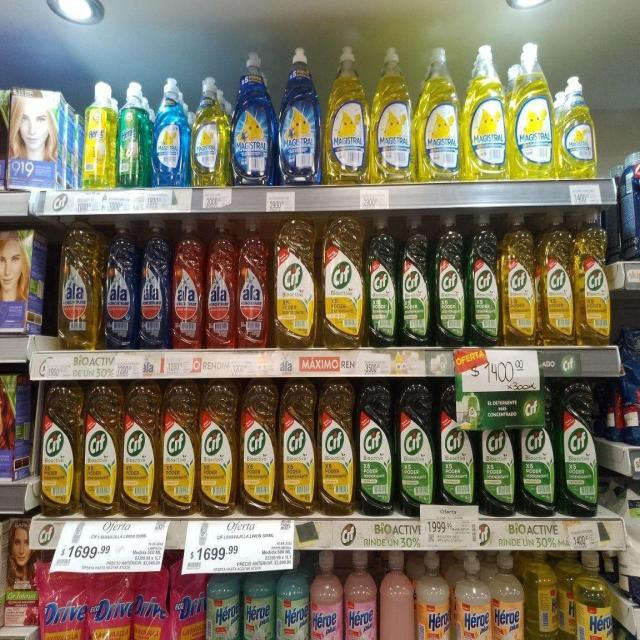ala_conc_amarillo: (57, 217, 101, 350)
ala_conc_azul: (104, 218, 138, 350), (139, 217, 170, 350)
ala_conc_rojo: (236, 216, 270, 350), (172, 215, 204, 350), (205, 215, 236, 350)
cif_conc_bot_amarilla: (320, 212, 364, 349), (272, 214, 316, 350), (40, 379, 80, 517), (199, 379, 238, 516), (82, 379, 120, 517), (240, 378, 277, 517), (279, 378, 316, 517), (318, 379, 355, 516), (122, 379, 158, 517), (574, 208, 610, 346), (161, 379, 197, 516), (501, 210, 536, 346), (538, 211, 573, 346)
cif_conc_botella_verde: (558, 377, 598, 517), (396, 379, 434, 514), (436, 378, 476, 506), (519, 380, 556, 517), (358, 379, 394, 517), (432, 212, 466, 347), (398, 212, 431, 347), (467, 210, 499, 347), (366, 214, 396, 348), (479, 424, 516, 516)
drive: (85, 563, 131, 640), (132, 557, 169, 640)
heroe: (575, 550, 614, 640), (453, 549, 491, 640), (416, 549, 451, 640), (344, 548, 378, 640), (491, 549, 524, 640), (310, 549, 343, 640), (275, 556, 309, 640), (206, 566, 240, 640), (242, 566, 274, 640)
magistral_con_amarillo: (324, 44, 369, 185), (509, 41, 554, 179), (416, 45, 461, 182), (463, 44, 507, 180), (372, 45, 414, 184), (556, 75, 598, 179), (192, 75, 228, 187)
magistral_con_azul: (153, 76, 189, 188)
